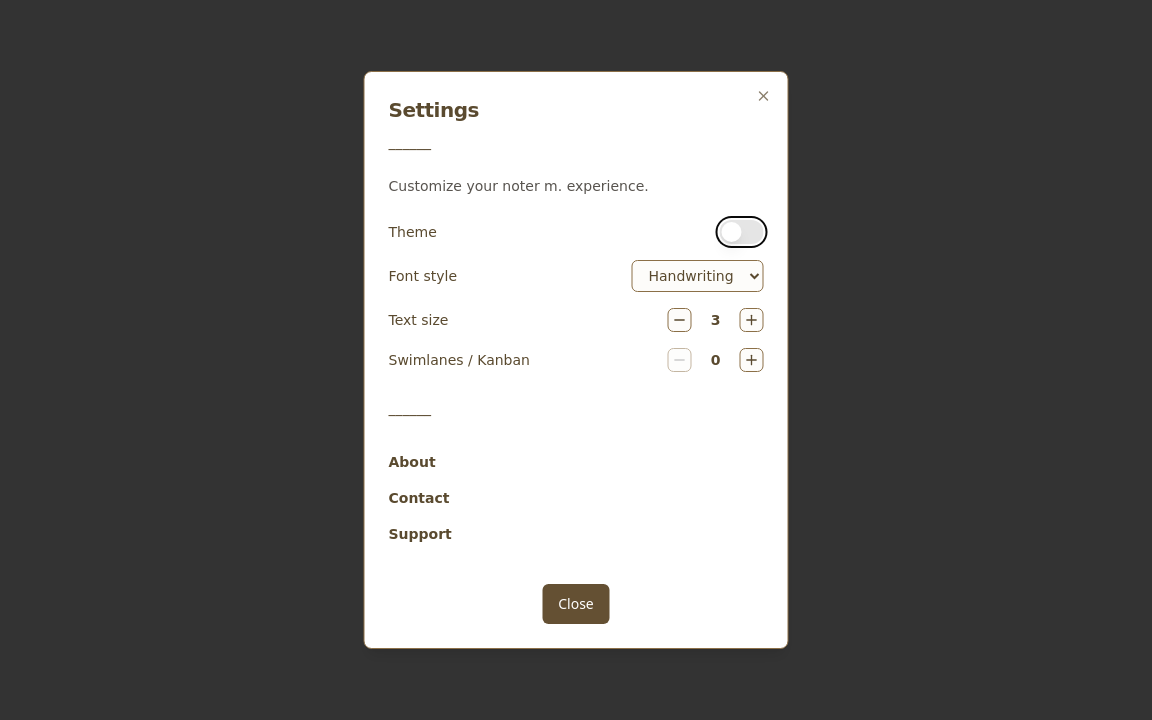
Test: SettingsDialog › should open about dialog when About button is clicked
Click the button "About" at (412, 462), box [388,452,764,472]
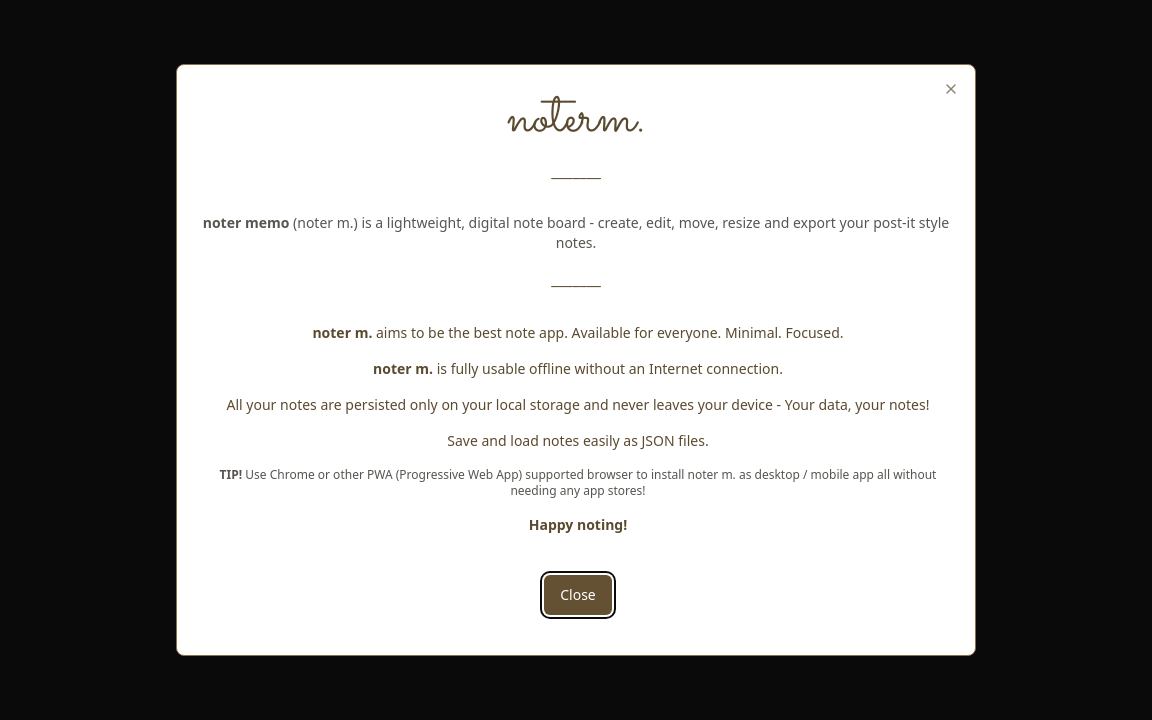
Now the text "noterm." is shown, box [506,75,646,163]
